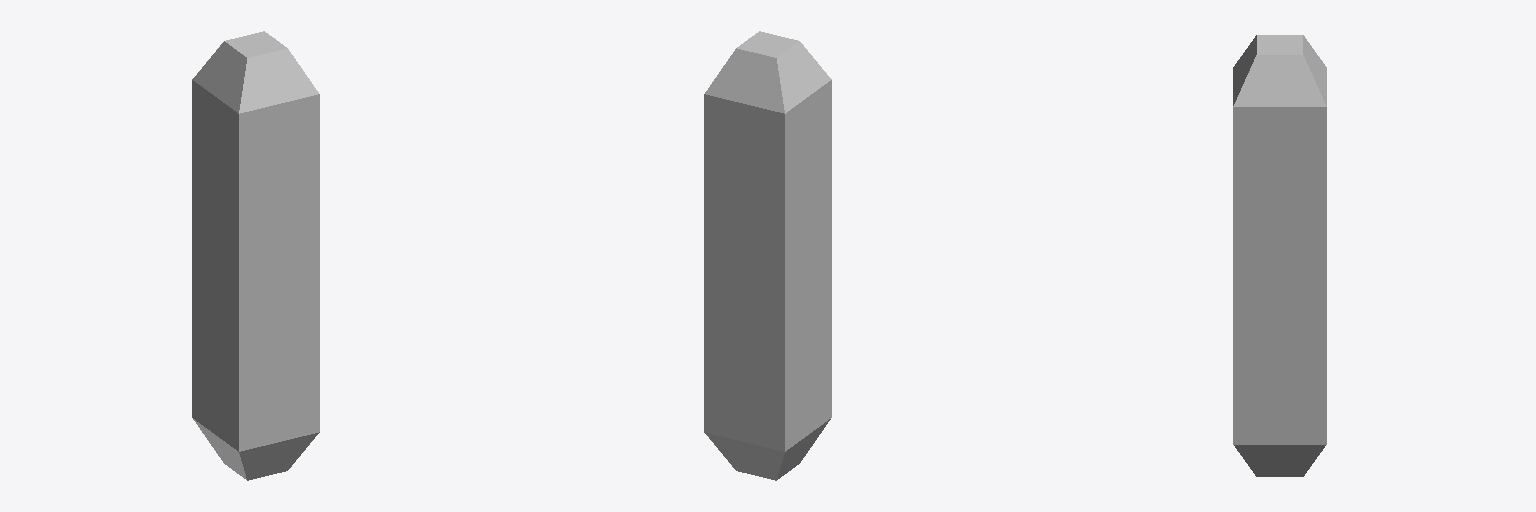
The model's file is Petty.obj.
3 views of the same model, side by side, from view 1: azimuth 30°, elevation 25°; view 2: azimuth 150°, elevation 25°; view 3: azimuth 270°, elevation 25° (orthographic).
Visible parts, largest first — view 1: Cube_Cube.001; view 2: Cube_Cube.001; view 3: Cube_Cube.001.
Part boxes in pixels (x1,y1,x2,y2): Cube_Cube.001: (192,31,319,480); Cube_Cube.001: (704,31,831,480); Cube_Cube.001: (1233,35,1326,476).
Size of the model in its own units: 0.4 by 2 by 0.4.